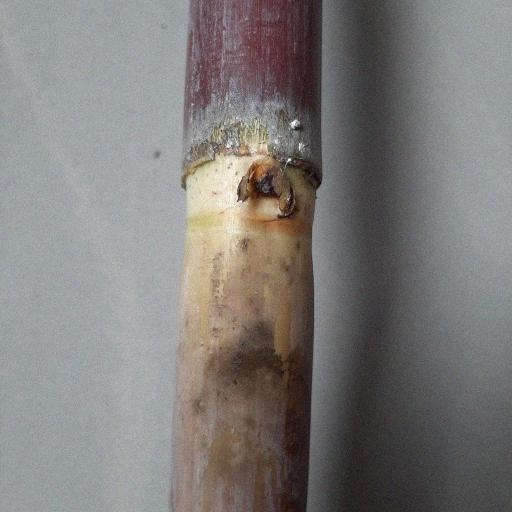Damage_Bud: (238, 160, 294, 222)
